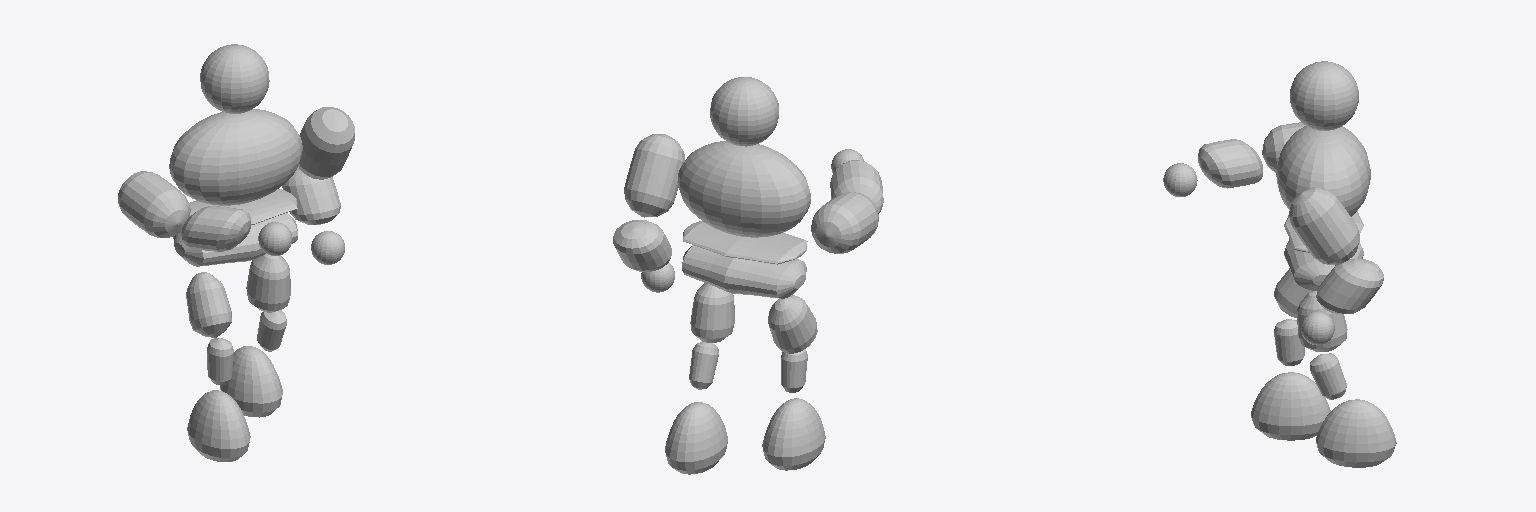
File: PTwoPunch2.obj
3 renders of one model, left to right at view 1: azimuth 30°, elevation 25°; view 2: azimuth 150°, elevation 25°; view 3: azimuth 270°, elevation 25°, orthographic.
Bounding box in the file's own units: 4.03 × 6.49 × 3.58.